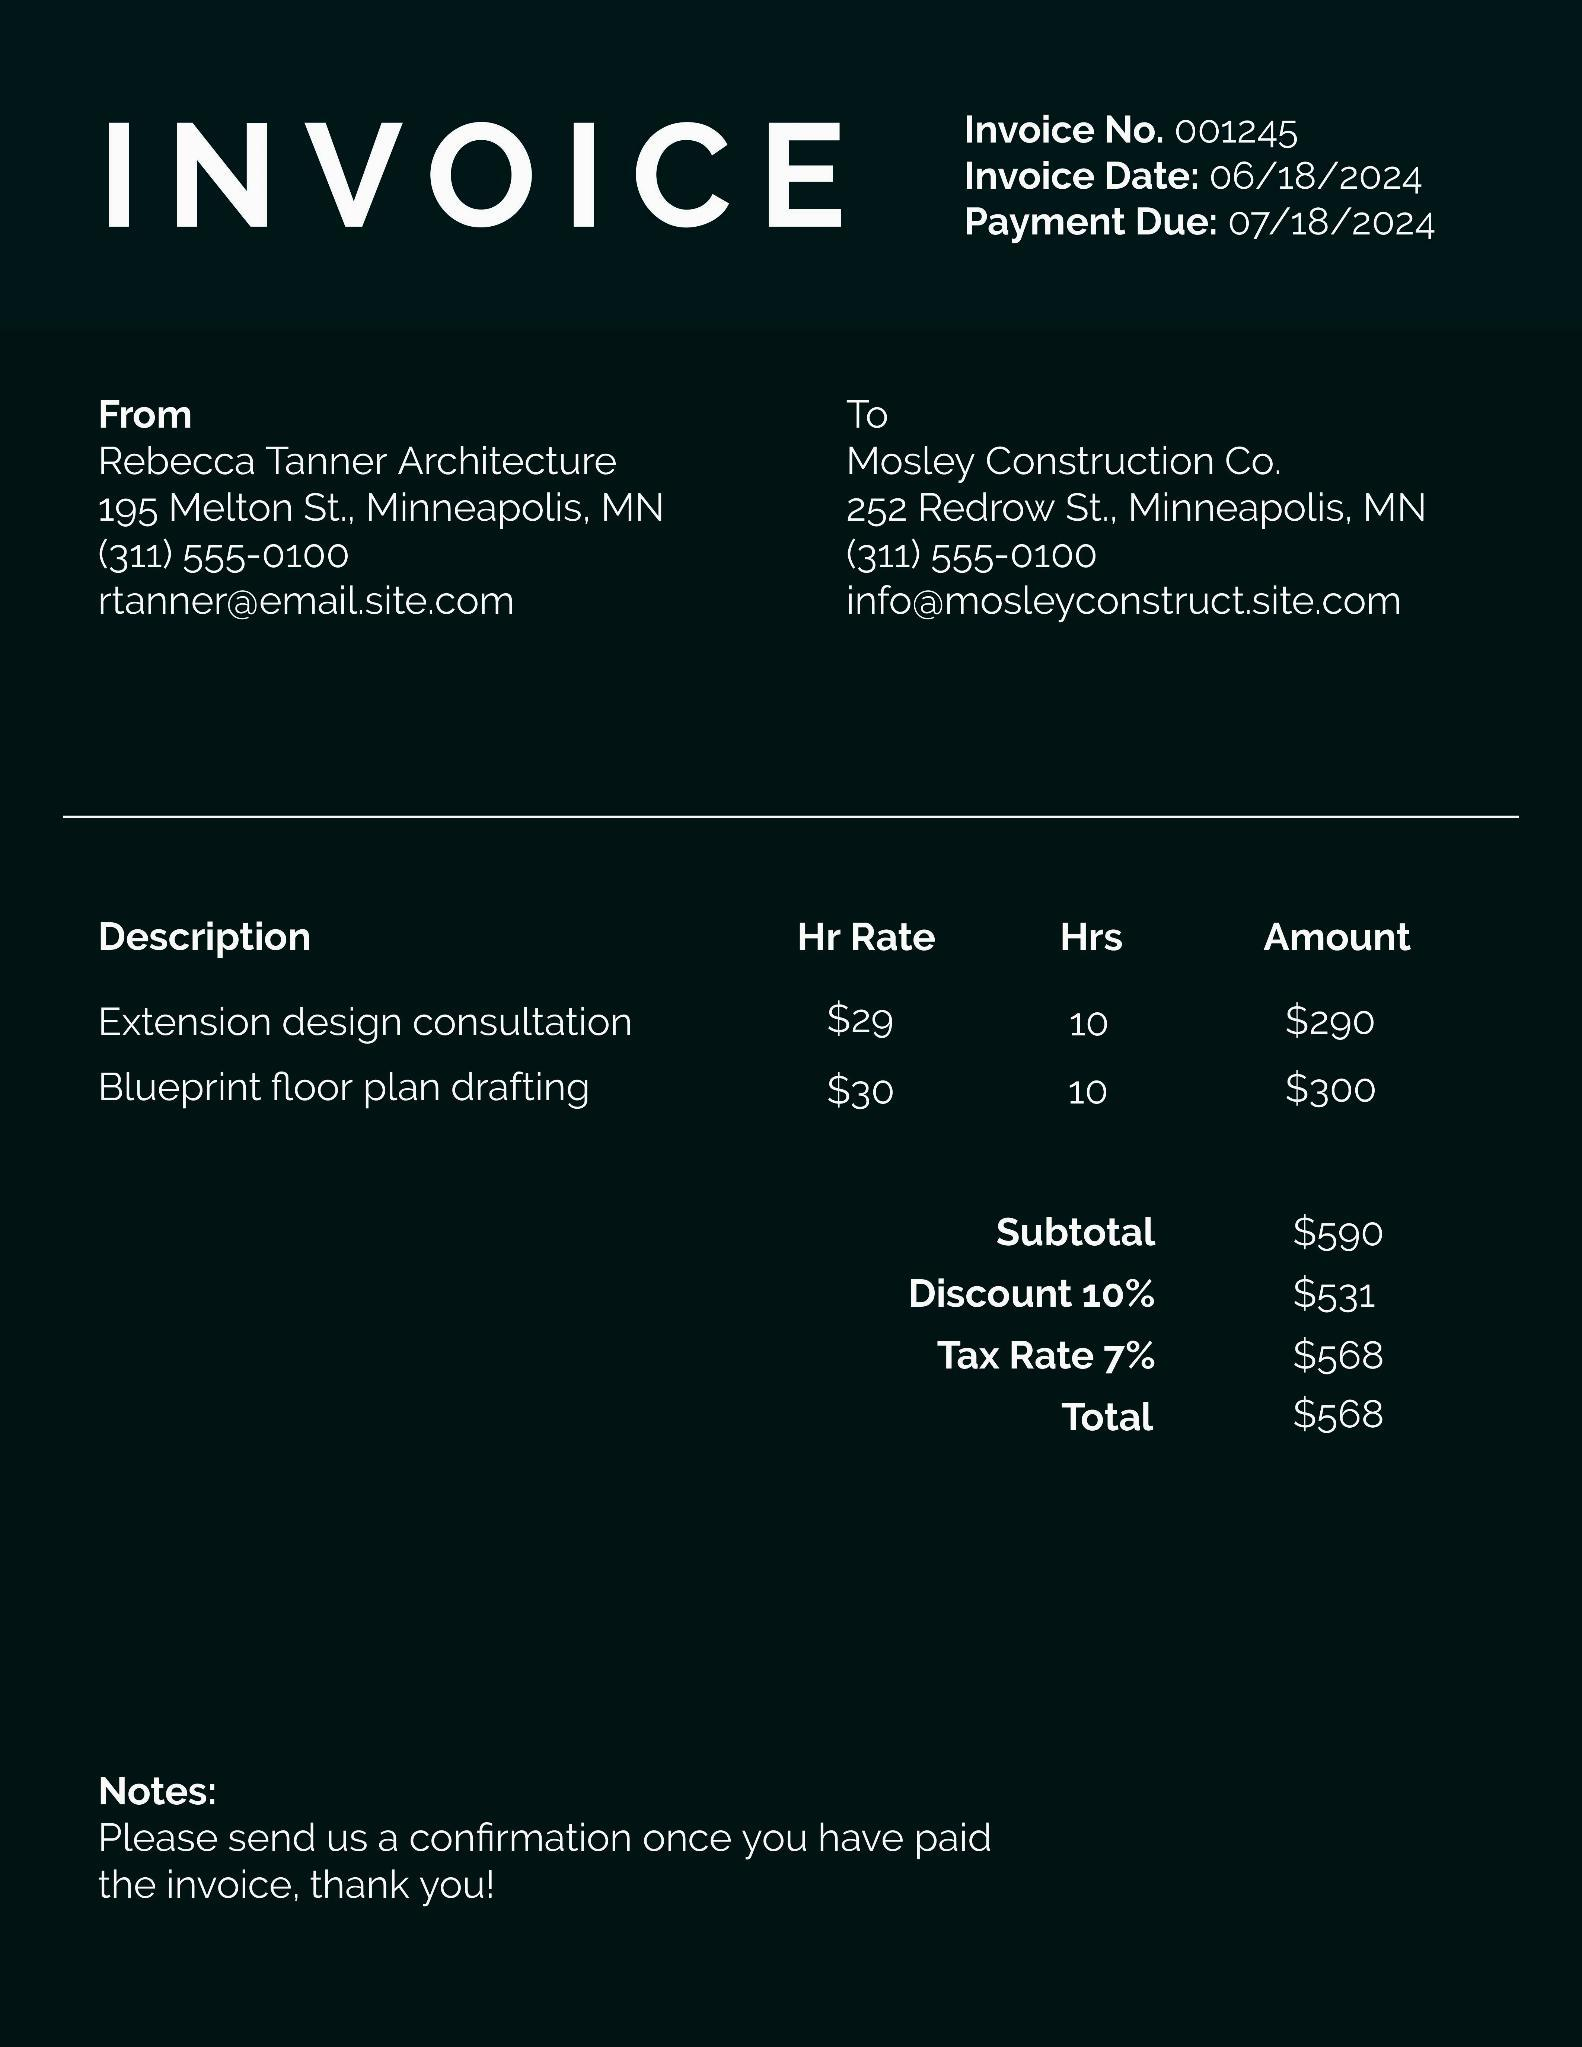ROI: (56, 872, 1467, 1140), (86, 1761, 1015, 1954), (816, 380, 1437, 651), (80, 385, 703, 643), (867, 1201, 1432, 1454), (71, 83, 849, 254), (936, 101, 1446, 268)
